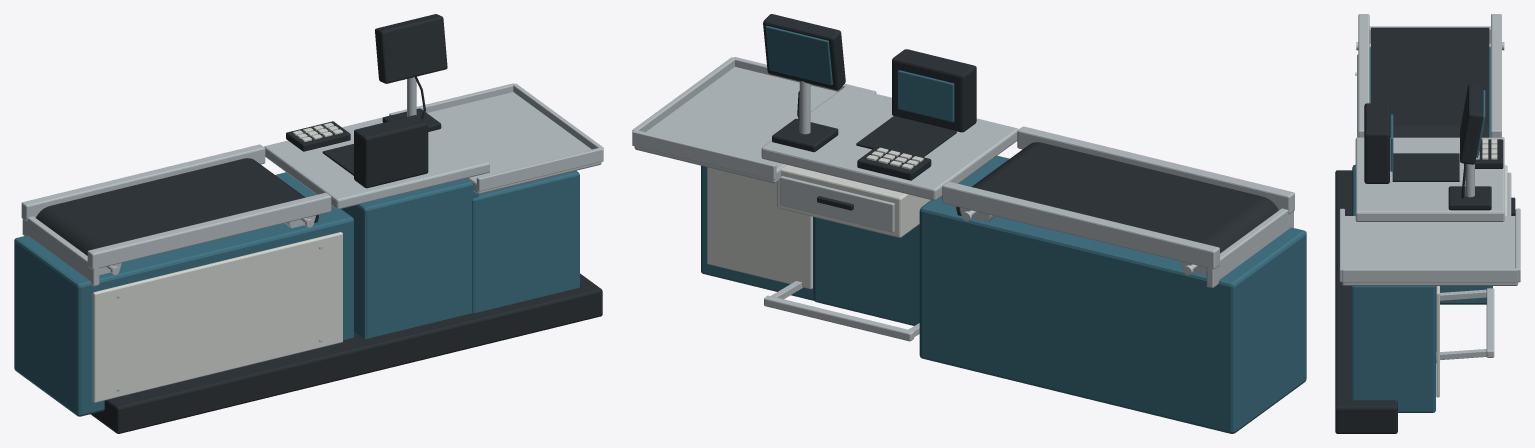
Rendered from city-retail-checkout-station.glb.
3 renders of one model, left to right at view 1: azimuth 30°, elevation 25°; view 2: azimuth 150°, elevation 25°; view 3: azimuth 270°, elevation 25°, orthographic. The views are drawn at different scales.
Visible parts, largest first — view 1: Assembly | Deep petrol powder coating, Assembly | Opaque inactive display and rubber, Assembly | Brushed plain metal, Assembly | Warm pale powder coating; view 2: Assembly | Deep petrol powder coating, Assembly | Brushed plain metal, Assembly | Opaque inactive display and rubber, Assembly | Warm pale powder coating; view 3: Assembly | Brushed plain metal, Assembly | Opaque inactive display and rubber, Assembly | Deep petrol powder coating, Assembly | Warm pale powder coating.
Boxes of the visible parts, bbox=[...] form: Assembly | Deep petrol powder coating: bbox=[14, 170, 579, 416]; Assembly | Opaque inactive display and rubber: bbox=[36, 14, 602, 433]; Assembly | Brushed plain metal: bbox=[21, 77, 603, 391]; Assembly | Warm pale powder coating: bbox=[92, 122, 342, 402]; Assembly | Deep petrol powder coating: bbox=[701, 26, 1306, 433]; Assembly | Brushed plain metal: bbox=[632, 57, 1294, 341]; Assembly | Opaque inactive display and rubber: bbox=[763, 14, 1278, 253]; Assembly | Warm pale powder coating: bbox=[707, 147, 930, 289]; Assembly | Brushed plain metal: bbox=[1339, 14, 1520, 359]; Assembly | Opaque inactive display and rubber: bbox=[1335, 27, 1515, 433]; Assembly | Deep petrol powder coating: bbox=[1351, 48, 1492, 412]; Assembly | Warm pale powder coating: bbox=[1357, 54, 1507, 397].
Bounding box in the file's own units: 2.96 × 1.5 × 0.918.
